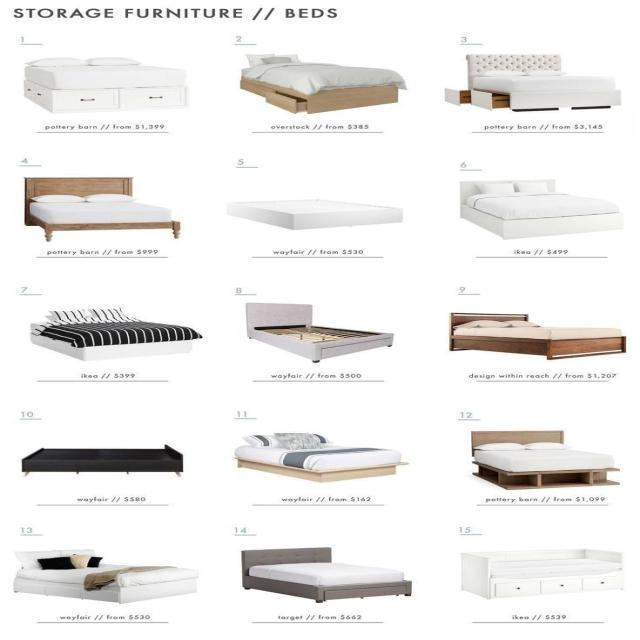obstacle: (12, 548, 198, 604), (23, 176, 180, 242), (239, 52, 406, 114), (458, 178, 624, 240), (240, 546, 412, 604), (28, 306, 201, 362), (22, 56, 188, 114), (242, 303, 398, 363), (470, 430, 622, 490), (465, 53, 622, 111), (234, 432, 408, 483), (448, 312, 626, 360), (493, 572, 623, 596), (54, 89, 188, 112), (443, 88, 508, 109), (262, 91, 306, 112)
